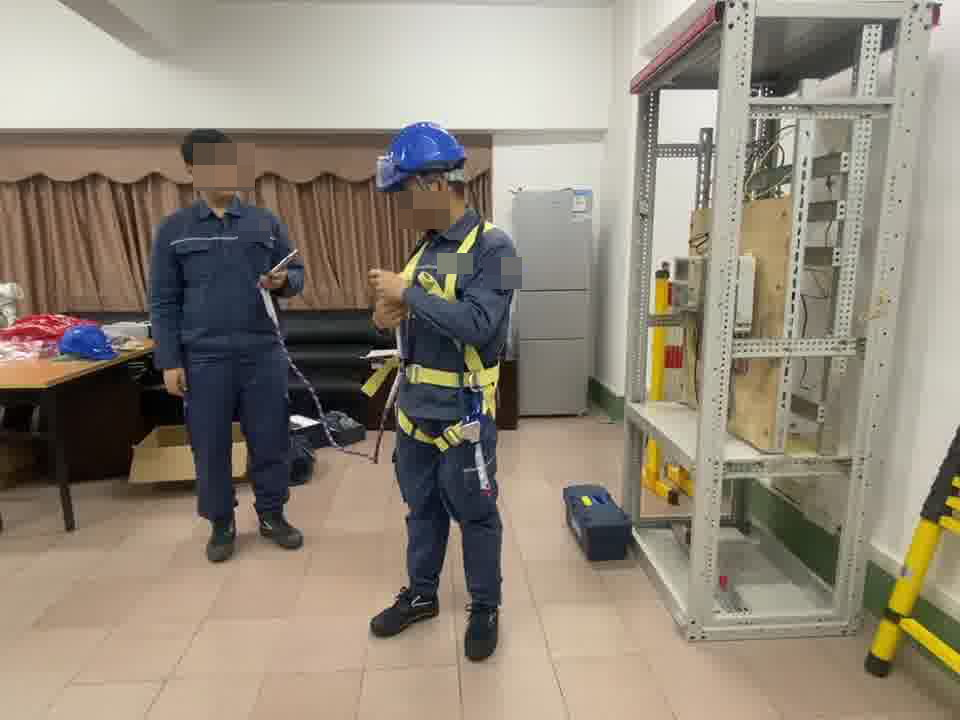downsuit: (394, 416, 503, 609), (183, 361, 297, 522)
halt: (376, 121, 470, 224)
hand: (366, 267, 411, 304), (375, 300, 413, 330), (161, 362, 189, 399), (259, 263, 288, 293)
inear: (418, 169, 459, 209)
noear: (180, 161, 206, 188)
person: (367, 123, 518, 653), (148, 131, 313, 552)
safebelt: (360, 216, 515, 498)
sleeve: (491, 259, 518, 297)
unhalt: (182, 131, 243, 201)
upsuit: (388, 218, 516, 399), (146, 203, 304, 349)
